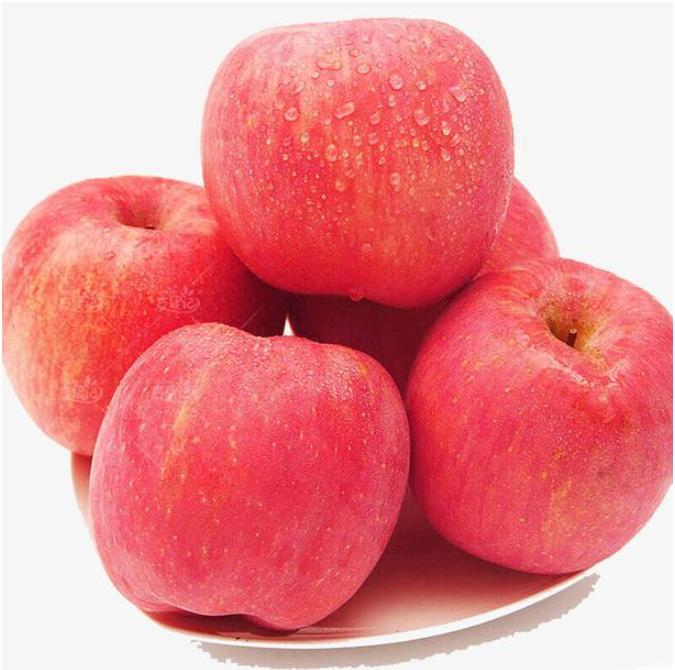apple: (87, 333, 409, 633), (201, 14, 523, 303), (399, 254, 671, 570), (1, 177, 285, 446)
